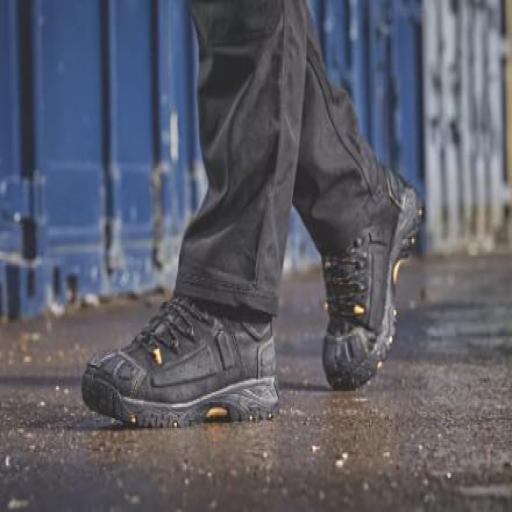safety_boots: (69, 300, 304, 440), (320, 138, 425, 394)
